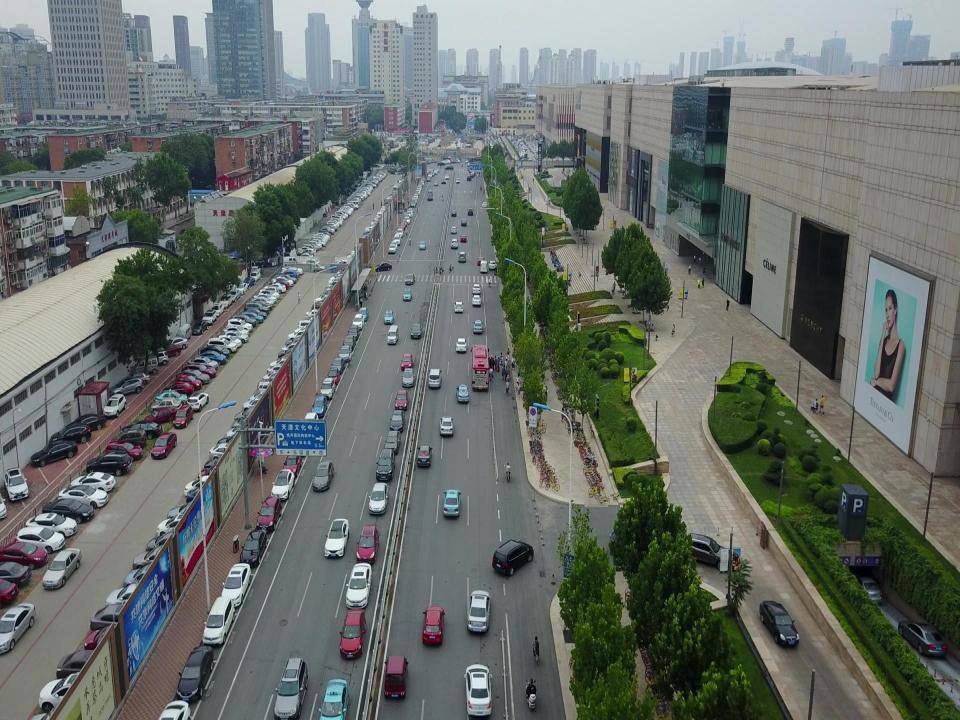bus: (470, 345, 489, 389)
car: (38, 673, 104, 714), (272, 657, 308, 718), (685, 532, 738, 573), (176, 644, 214, 701), (896, 618, 948, 657), (758, 600, 800, 648), (609, 526, 665, 561), (56, 650, 115, 682), (90, 604, 150, 635), (84, 624, 138, 658), (1, 602, 35, 655), (104, 584, 162, 614), (42, 548, 82, 590), (132, 544, 186, 575), (464, 663, 493, 718), (123, 563, 174, 594), (220, 562, 252, 610), (14, 526, 66, 553), (340, 607, 366, 660), (0, 542, 49, 570), (42, 498, 94, 524), (155, 513, 205, 540), (318, 677, 350, 719), (30, 439, 78, 467), (166, 499, 216, 525), (25, 512, 77, 537), (145, 531, 193, 558), (346, 561, 372, 610), (57, 484, 110, 508), (86, 450, 132, 477), (239, 528, 267, 569), (50, 421, 92, 448), (323, 516, 349, 558), (184, 473, 230, 496), (851, 575, 884, 607), (467, 589, 491, 632), (255, 494, 282, 532), (185, 482, 226, 507), (70, 471, 116, 493), (355, 524, 380, 564), (422, 605, 446, 646), (234, 406, 278, 428), (224, 422, 267, 444), (216, 432, 258, 454), (65, 413, 107, 435), (3, 466, 29, 501), (204, 456, 243, 478), (197, 463, 237, 484), (232, 413, 274, 433), (0, 561, 32, 586), (109, 428, 147, 449), (121, 420, 163, 439), (270, 468, 294, 501), (311, 459, 335, 492), (208, 442, 246, 462), (242, 395, 282, 414), (260, 369, 298, 389), (105, 440, 143, 460), (108, 376, 144, 397), (151, 431, 177, 459), (376, 447, 396, 483), (257, 379, 295, 397), (270, 356, 306, 375), (248, 389, 288, 406), (368, 482, 388, 515), (102, 393, 127, 419), (144, 406, 178, 425), (441, 488, 461, 519), (282, 450, 302, 479), (156, 388, 188, 406), (172, 404, 194, 429), (161, 381, 195, 397), (181, 363, 217, 378), (150, 397, 182, 413), (206, 337, 238, 353), (176, 369, 210, 384), (384, 429, 402, 457), (266, 362, 302, 376), (187, 356, 219, 371), (197, 350, 227, 366), (153, 343, 181, 359), (187, 392, 209, 412), (416, 444, 434, 468), (226, 318, 253, 334), (122, 371, 150, 386), (174, 375, 202, 390), (200, 344, 230, 358), (144, 350, 170, 366), (163, 336, 189, 351), (231, 314, 257, 329), (244, 301, 270, 316), (390, 409, 404, 436), (319, 377, 336, 399), (312, 395, 328, 418), (223, 330, 249, 344), (222, 325, 250, 338), (217, 334, 242, 348), (438, 415, 454, 436), (303, 413, 319, 434), (240, 311, 264, 324), (249, 296, 275, 308), (455, 383, 470, 403), (249, 300, 273, 312), (253, 292, 277, 304), (394, 390, 408, 410), (192, 320, 209, 336), (401, 368, 415, 387), (338, 345, 352, 364), (264, 282, 286, 294), (270, 276, 294, 287), (278, 269, 298, 282), (244, 308, 267, 319), (331, 357, 345, 375), (247, 256, 268, 268), (282, 264, 304, 275), (266, 280, 290, 290), (400, 354, 414, 371), (342, 334, 356, 351), (346, 325, 360, 342), (350, 313, 364, 330), (327, 367, 340, 385), (330, 259, 349, 271), (202, 309, 216, 325), (218, 294, 232, 310), (258, 289, 280, 299), (275, 274, 297, 284), (210, 302, 224, 317), (410, 322, 422, 338), (236, 281, 248, 297), (456, 337, 468, 352), (374, 261, 392, 271), (228, 288, 240, 303), (300, 259, 320, 268), (383, 308, 394, 324), (472, 319, 484, 333), (358, 307, 370, 321), (310, 262, 326, 272), (243, 276, 256, 288), (249, 270, 261, 282), (402, 288, 412, 301), (454, 301, 464, 313), (471, 294, 481, 306), (405, 273, 415, 285), (457, 250, 467, 262), (472, 282, 481, 295), (449, 238, 459, 249), (388, 243, 396, 254), (418, 240, 426, 250), (393, 235, 400, 246), (477, 256, 485, 265), (459, 234, 467, 242), (450, 226, 458, 234), (467, 208, 475, 216), (390, 241, 398, 249), (489, 260, 496, 269), (460, 218, 467, 226), (394, 234, 402, 241), (406, 211, 414, 218), (451, 209, 457, 217), (445, 165, 454, 170), (482, 201, 488, 208), (398, 226, 404, 233), (400, 222, 406, 229), (405, 217, 411, 224), (408, 208, 414, 215), (442, 159, 450, 164), (466, 175, 472, 181), (410, 201, 416, 207), (412, 198, 418, 204), (416, 185, 422, 191), (420, 178, 426, 184), (441, 177, 446, 184), (402, 219, 407, 226), (413, 193, 418, 200), (437, 161, 445, 165), (470, 171, 476, 176), (404, 214, 410, 219), (412, 196, 418, 201), (414, 191, 420, 196), (416, 187, 421, 193), (418, 182, 424, 187), (430, 171, 435, 177), (426, 176, 431, 181), (428, 173, 433, 178), (420, 180, 424, 186), (453, 159, 461, 162), (434, 181, 438, 186), (445, 174, 449, 179), (456, 178, 460, 183), (469, 173, 473, 178), (418, 184, 422, 189), (434, 169, 438, 174), (449, 159, 454, 163)
van: (491, 539, 535, 576), (203, 598, 235, 646), (383, 653, 409, 701), (131, 356, 160, 375), (427, 368, 443, 387), (176, 323, 192, 342), (261, 286, 280, 299), (387, 324, 398, 344), (282, 255, 298, 267), (480, 260, 488, 273), (427, 188, 433, 200), (396, 228, 404, 237)
